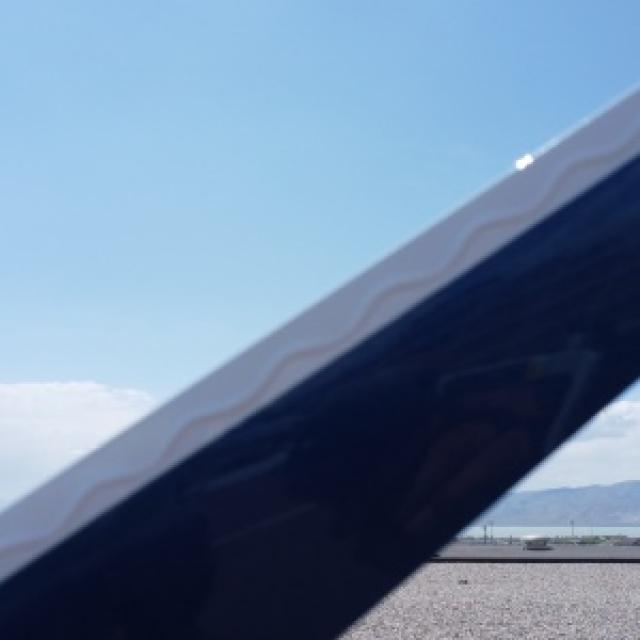healthy: (0, 90, 638, 638), (0, 0, 638, 397)
